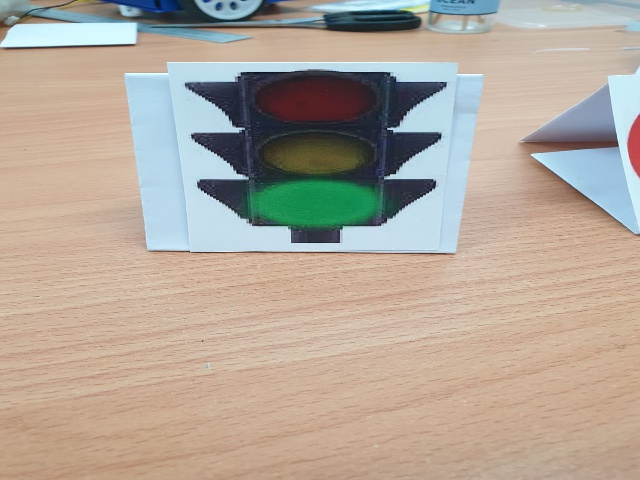Green: (169, 65, 441, 248)
